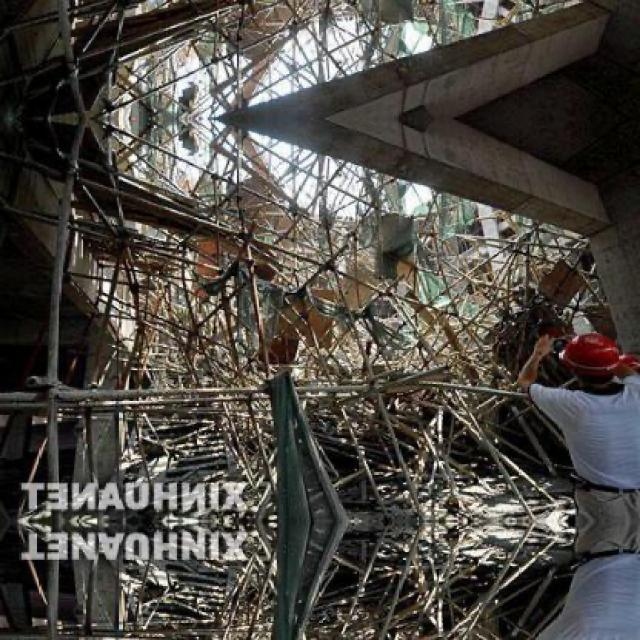helmet: (554, 333, 632, 389)
